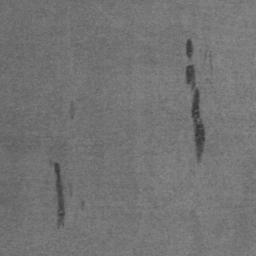Iron scale compression: (186, 63, 206, 166), (54, 163, 66, 230), (187, 40, 193, 55)
